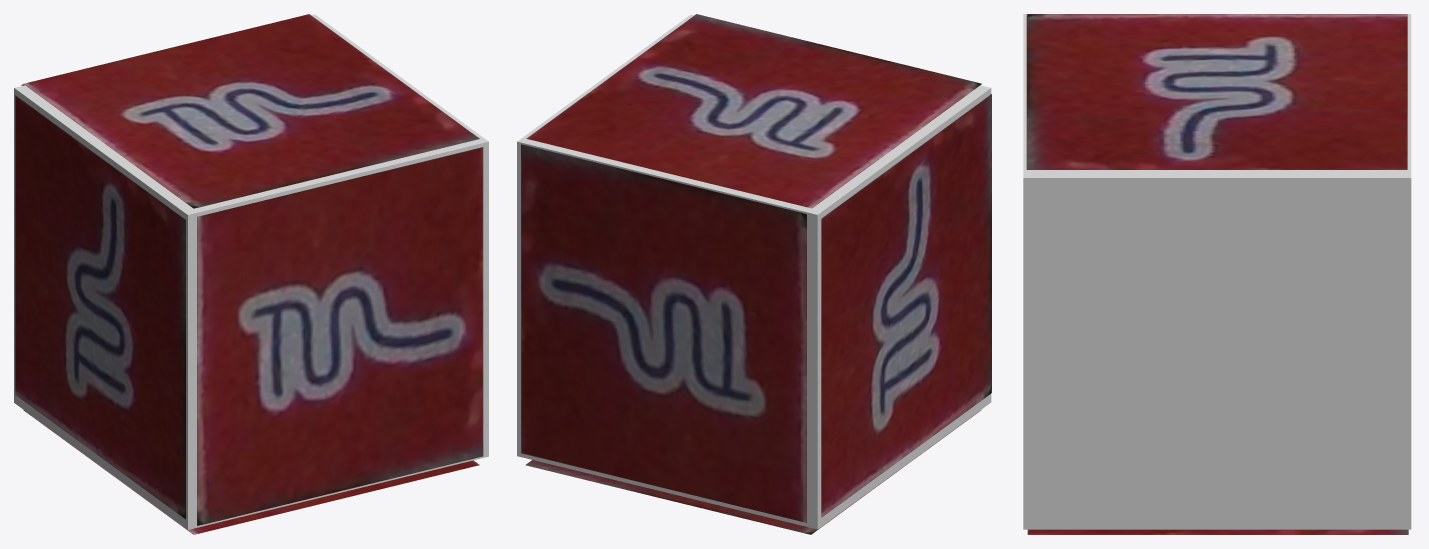
The picture shows the model from 3 angles, left to right: view 1: azimuth 30°, elevation 25°; view 2: azimuth 150°, elevation 25°; view 3: azimuth 270°, elevation 25°; orthographic projection. The views are drawn at different scales.
Visible parts, largest first — view 1: fake2.png.005, fake2.png.001, fake2.png.003, Link35, fake2.png.004; view 2: fake2.png.002, fake2.png.001, fake2.png.003, Link35, fake2.png.004; view 3: Link35, fake2.png.003, fake2.png.004.
Part boxes in pixels (x1,y1,x2,y2): fake2.png.005: (197, 147, 483, 525); fake2.png.001: (15, 95, 185, 519); fake2.png.003: (23, 14, 479, 208); Link35: (14, 14, 488, 529); fake2.png.004: (23, 410, 479, 534); fake2.png.002: (521, 144, 806, 522); fake2.png.001: (821, 94, 991, 517); fake2.png.003: (526, 14, 981, 208); Link35: (517, 14, 991, 529); fake2.png.004: (525, 410, 981, 534); Link35: (1023, 14, 1411, 529); fake2.png.003: (1026, 14, 1407, 169); fake2.png.004: (1027, 529, 1408, 534).
Size of the model in its own units: 0.3515 by 0.3561 by 0.3629.
1 material, 1 textured.
